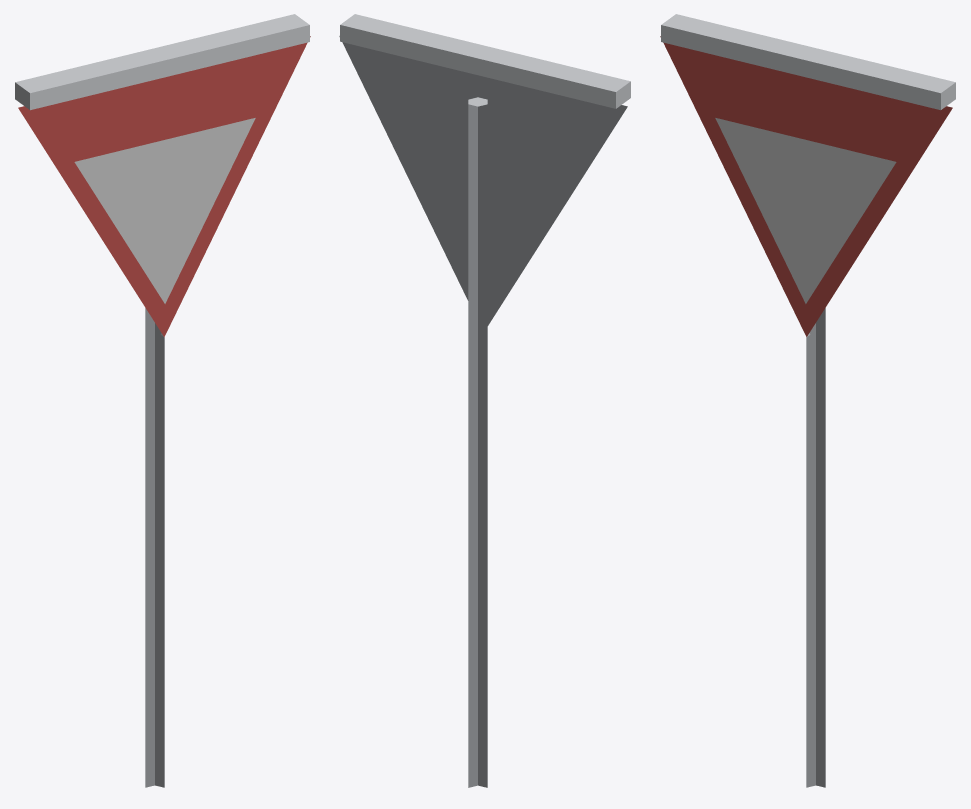
Rendered from vaistamismerkki.glb.
The picture shows the model from 3 angles, left to right: view 1: azimuth 30°, elevation 25°; view 2: azimuth 150°, elevation 25°; view 3: azimuth 330°, elevation 25°; orthographic projection.
Visible parts, largest first — view 1: vaistamismerkki; view 2: vaistamismerkki; view 3: vaistamismerkki.
Boxes of the visible parts, box(x1,y1,x2,y2) form: vaistamismerkki: box(15, 14, 310, 787); vaistamismerkki: box(339, 14, 630, 787); vaistamismerkki: box(660, 14, 955, 787).
Size of the model in its own units: 0.9 by 2.18 by 0.106.
